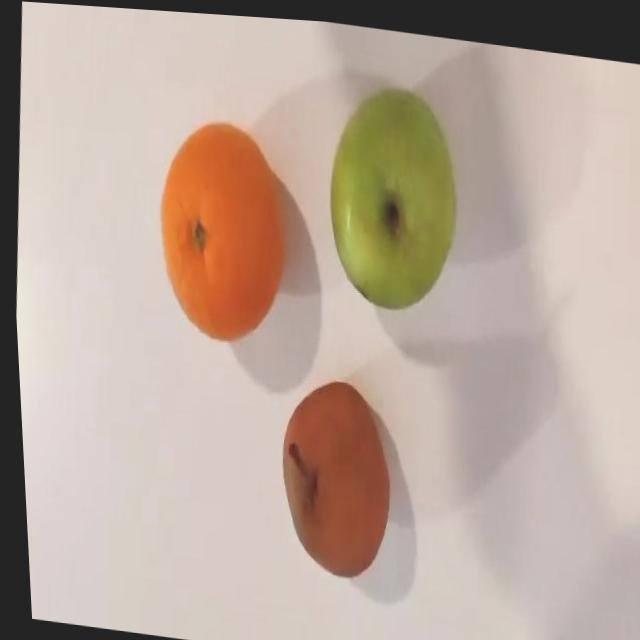Apple: (313, 74, 472, 314)
Orange: (144, 108, 296, 347)
